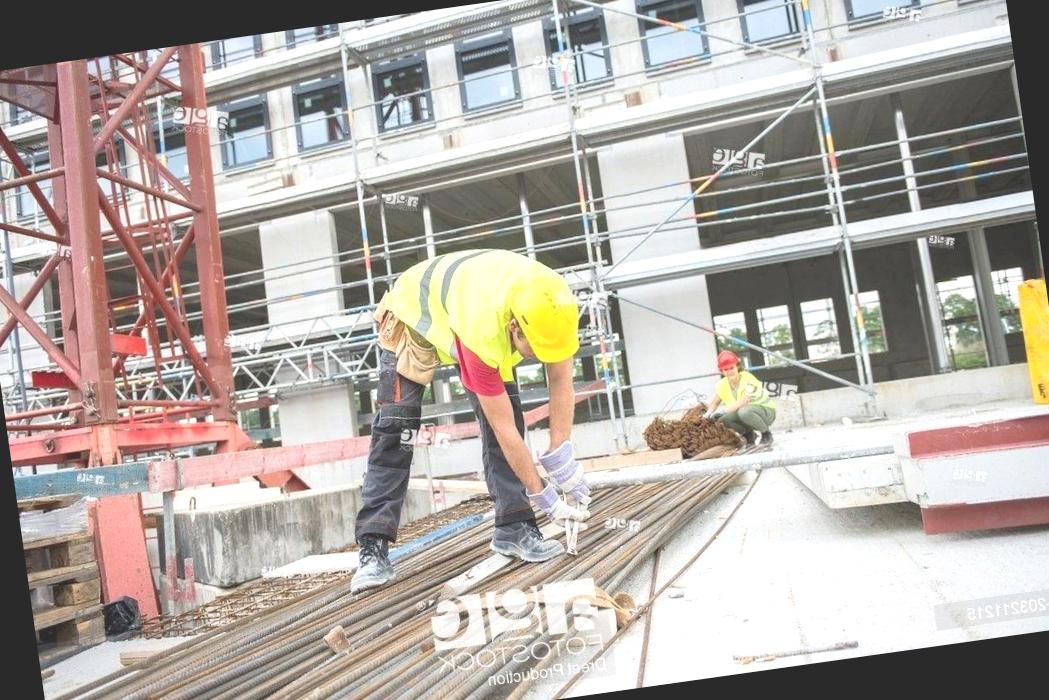helmet: (498, 259, 588, 375)
person: (296, 236, 614, 598)
